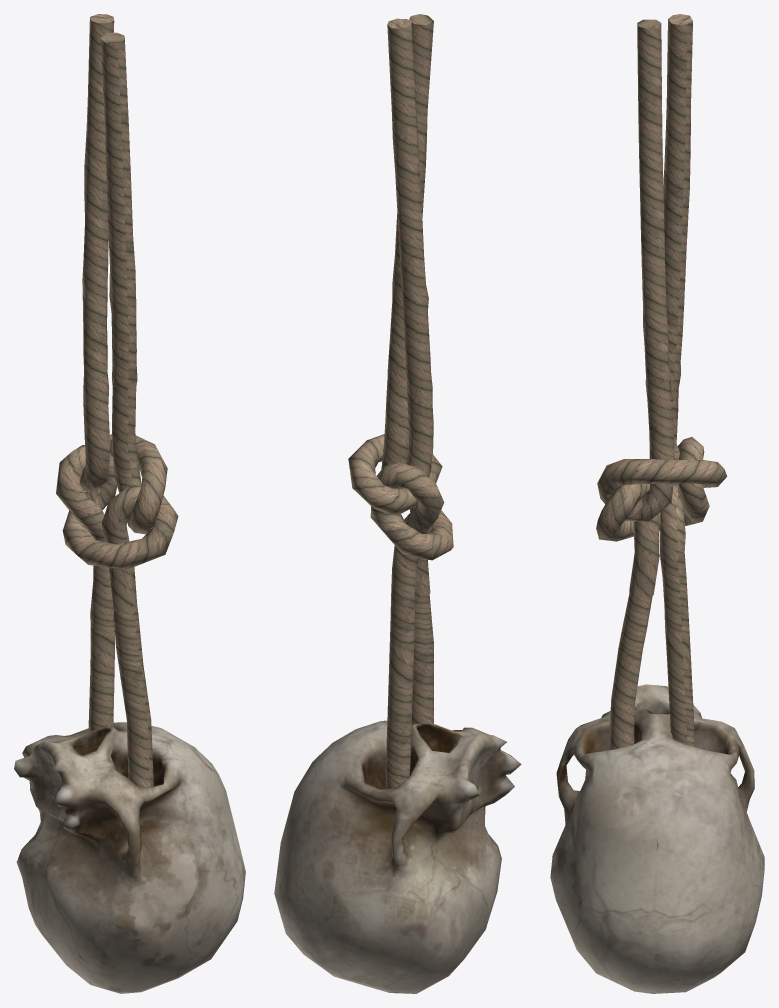
The model's file is SM_Bone05.fbx.
The picture shows the model from 3 angles, left to right: view 1: azimuth 30°, elevation 25°; view 2: azimuth 150°, elevation 25°; view 3: azimuth 270°, elevation 25°; orthographic projection.
Visible parts, largest first — view 1: SM_Bone05_LOD0; view 2: SM_Bone05_LOD0; view 3: SM_Bone05_LOD0.
Boxes of the visible parts, x1=… form: SM_Bone05_LOD0: x1=14, y1=14, x2=245, y2=993; SM_Bone05_LOD0: x1=274, y1=14, x2=521, y2=993; SM_Bone05_LOD0: x1=550, y1=14, x2=764, y2=993.
Size of the model in its own units: 19.24 by 17.51 by 86.3.
